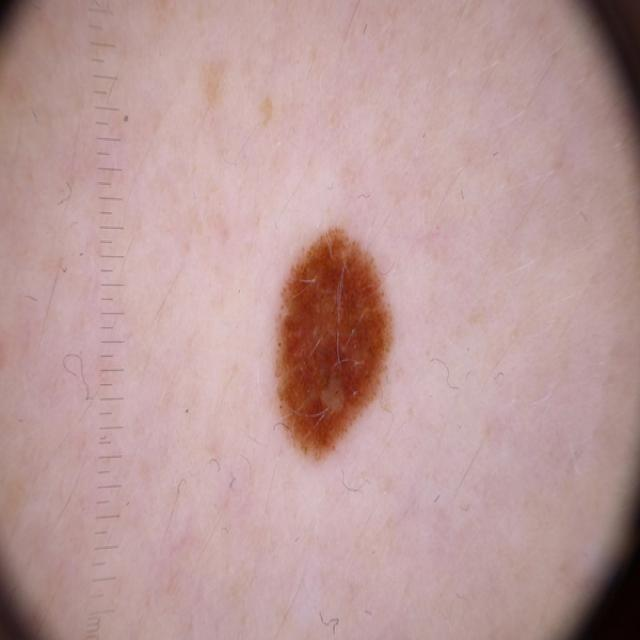NV: (272, 222, 396, 464)
